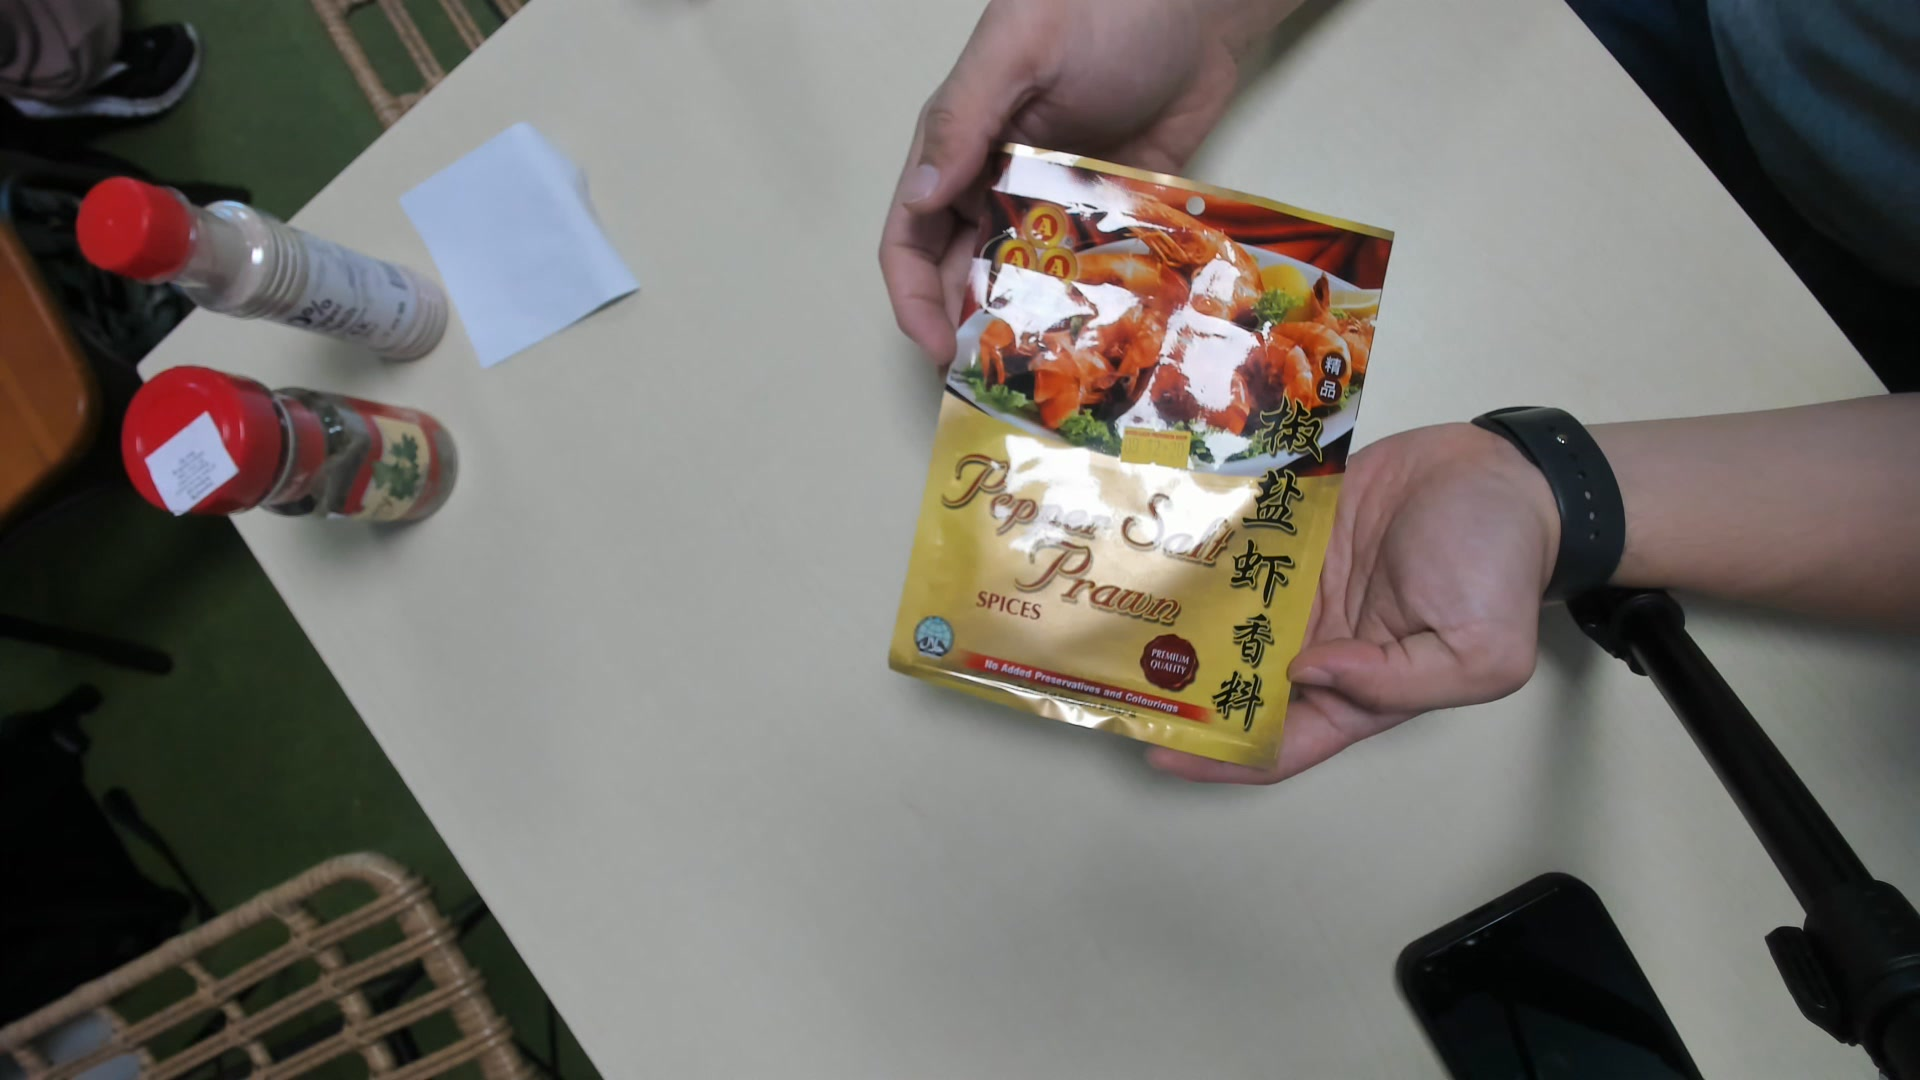HerbsSpicesPepper_400-499g_Halal_NonHealthy: (905, 138, 1379, 771)
